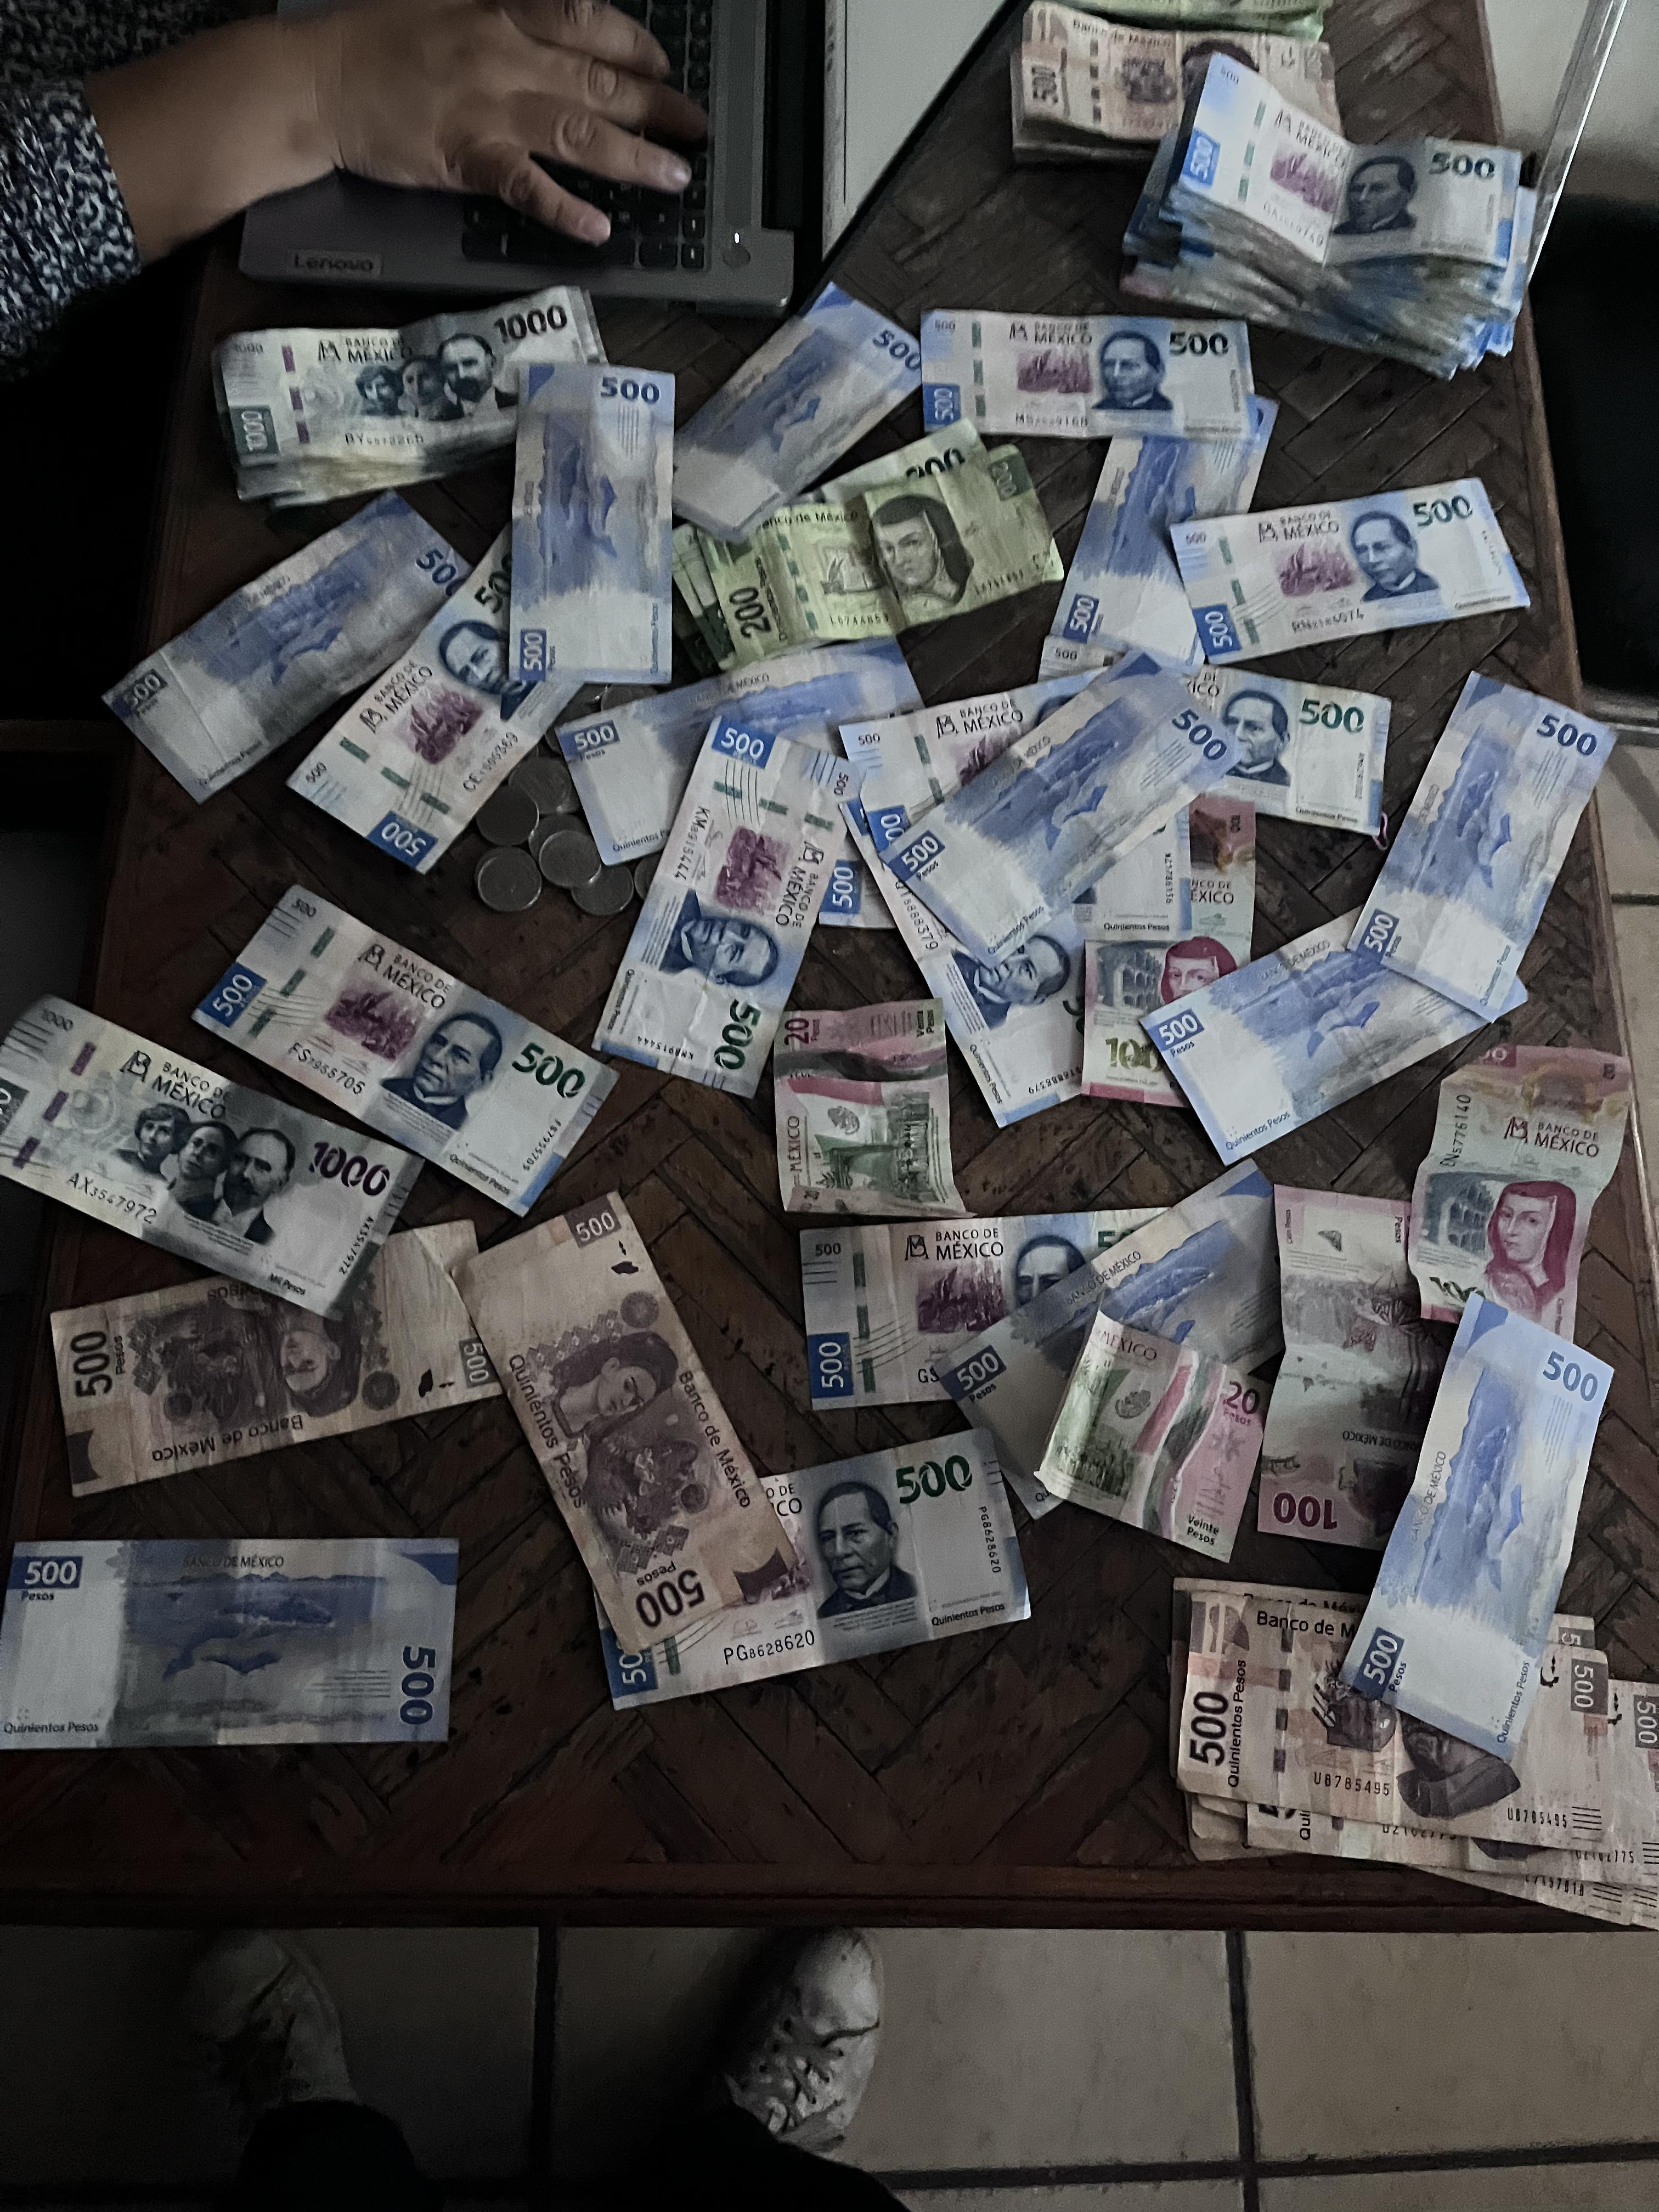100: (1246, 1163, 1443, 1568), (1075, 772, 1288, 1120), (1408, 1008, 1608, 1339)
1000: (0, 982, 408, 1310), (200, 291, 664, 533)
20: (1021, 1305, 1269, 1555), (769, 1001, 974, 1228)
200: (674, 479, 1087, 672)
500: (1150, 1566, 1659, 1898), (464, 1198, 795, 1651), (37, 1231, 514, 1501), (990, 0, 1373, 158)
500 nuevo: (173, 873, 648, 1231), (63, 484, 512, 808), (260, 507, 643, 878), (1342, 1256, 1605, 1731), (594, 1437, 1053, 1700), (1115, 890, 1558, 1150), (594, 700, 863, 1111), (828, 758, 1110, 1148), (782, 1202, 1286, 1411), (0, 1538, 465, 1752), (864, 669, 1265, 906), (1127, 462, 1549, 676), (532, 650, 939, 846), (1188, 61, 1530, 272), (1389, 636, 1598, 979), (1060, 369, 1284, 685), (678, 263, 929, 533), (514, 340, 701, 678), (911, 296, 1283, 434)
